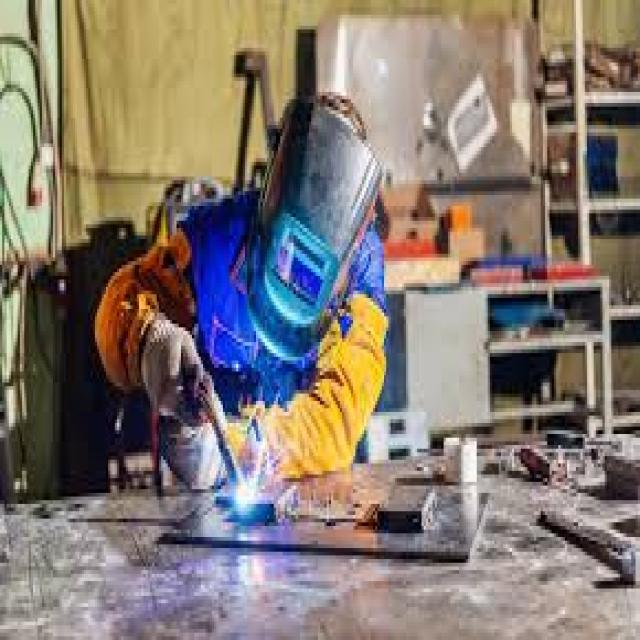welding: (232, 482, 255, 506)
